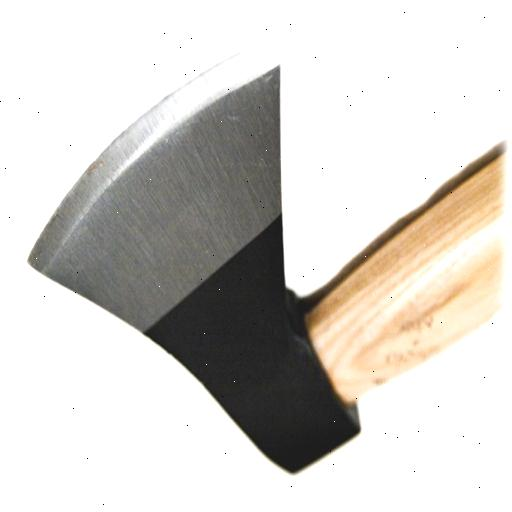Axe: (27, 38, 506, 476)
